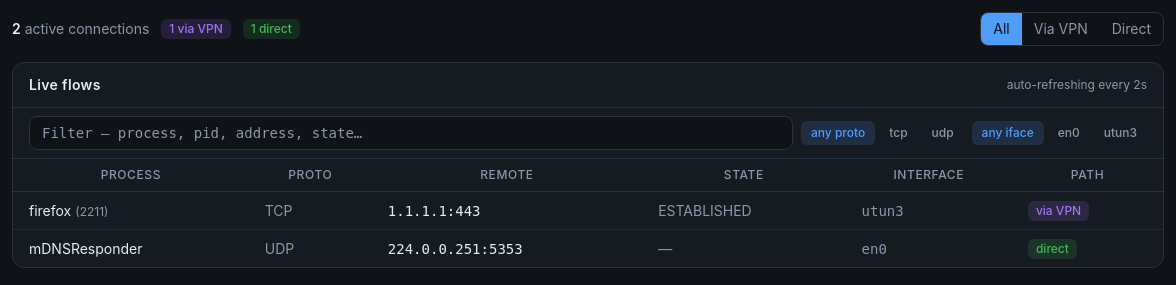
Scenario: Flows view › filters to via-VPN flows only
Check: the text "firefox" is shown, box top-left (29, 202), bottom-right (71, 218)
Click the button "via VPN".
click(1061, 29)  # box top-left (1022, 13), bottom-right (1100, 45)
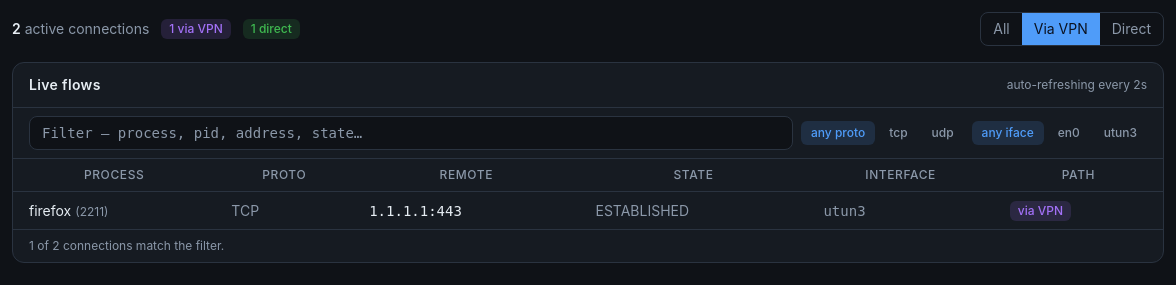
Check: the text "firefox" is shown, box top-left (29, 202), bottom-right (71, 218)
Check: the text "mDNSResponder" is gone
